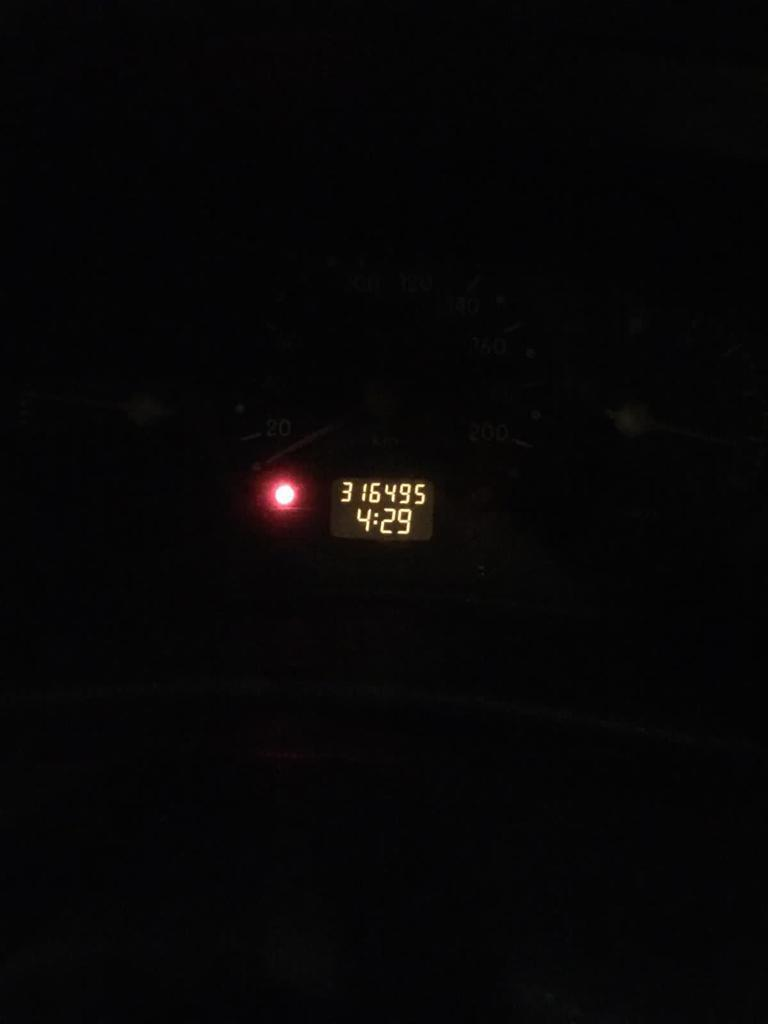1: (360, 482, 367, 502)
2: (379, 507, 395, 534)
3: (340, 481, 353, 502)
4: (355, 507, 371, 532), (383, 483, 396, 502)
5: (413, 483, 426, 504)
6: (368, 482, 380, 503)
9: (396, 508, 412, 534), (398, 483, 410, 503)
X: (372, 511, 379, 526)
odometer: (327, 473, 436, 541)
